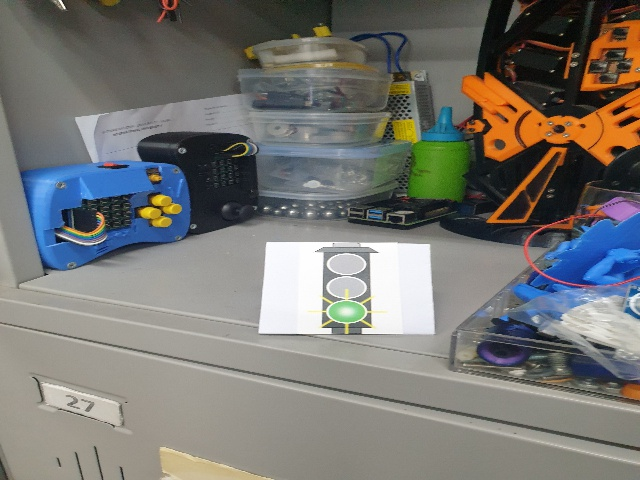Green Light: (304, 243, 391, 334)
